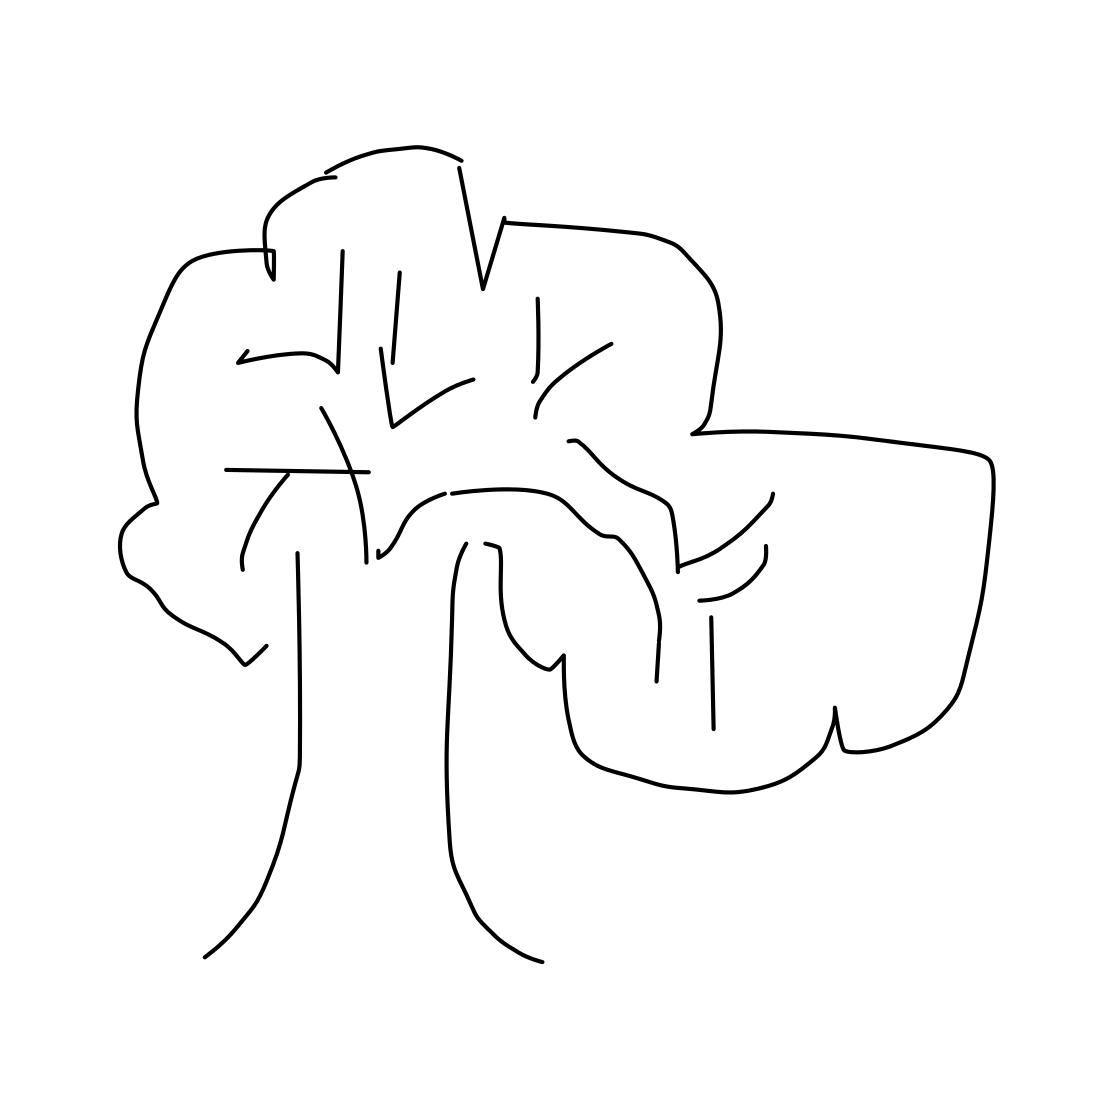Tree: (87, 124, 1017, 987)
